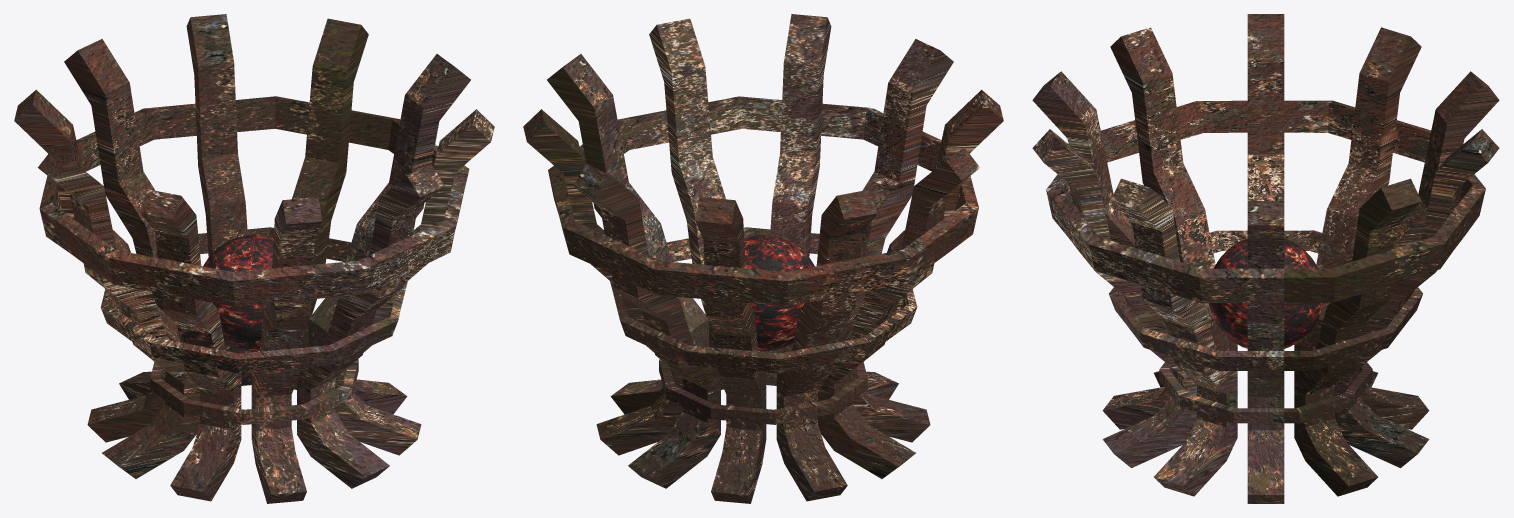
File: Brazier.FBX
The picture shows the model from 3 angles, left to right: view 1: azimuth 30°, elevation 25°; view 2: azimuth 150°, elevation 25°; view 3: azimuth 270°, elevation 25°; orthographic projection.
Visible parts, largest first — view 1: Brazier; view 2: Brazier; view 3: Brazier.
Boxes of the visible parts, x1,y1,x2,y2 form: Brazier: [14, 14, 494, 503]; Brazier: [523, 14, 1003, 503]; Brazier: [1032, 14, 1499, 503].
Size of the model in its own units: 260 by 253 by 200.
